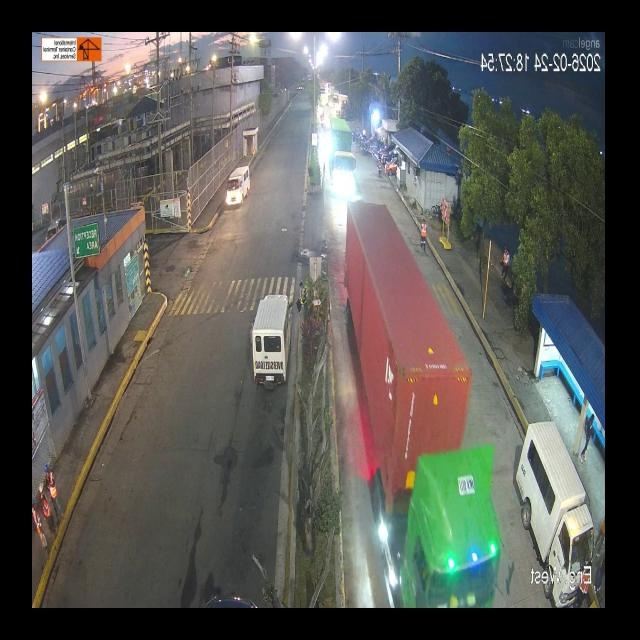car: (515, 431, 605, 567), (248, 308, 295, 406), (225, 166, 247, 219)
truck: (132, 191, 503, 601), (324, 116, 359, 202)
